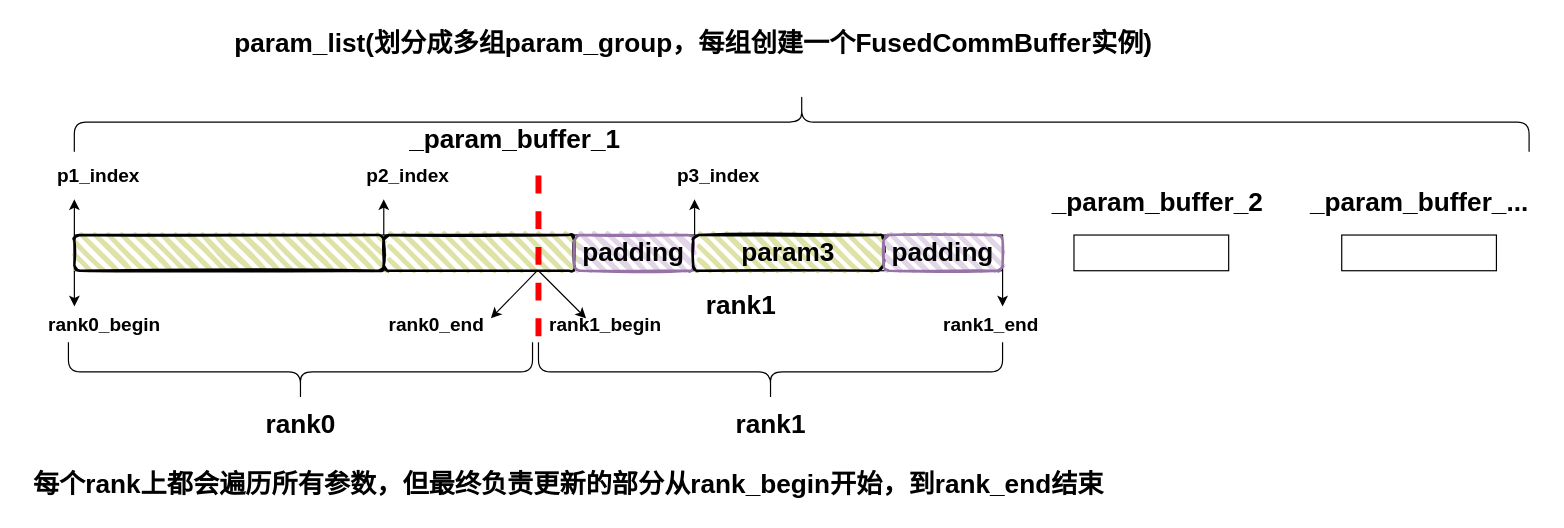
This 1564x528 diagram has some shape labels left out. The shapes that lost their labels are listed below. From the top down, each one's centre as x and y in pixels, then its label:
At (228,252): "param1".
At (478,252): "param2".
